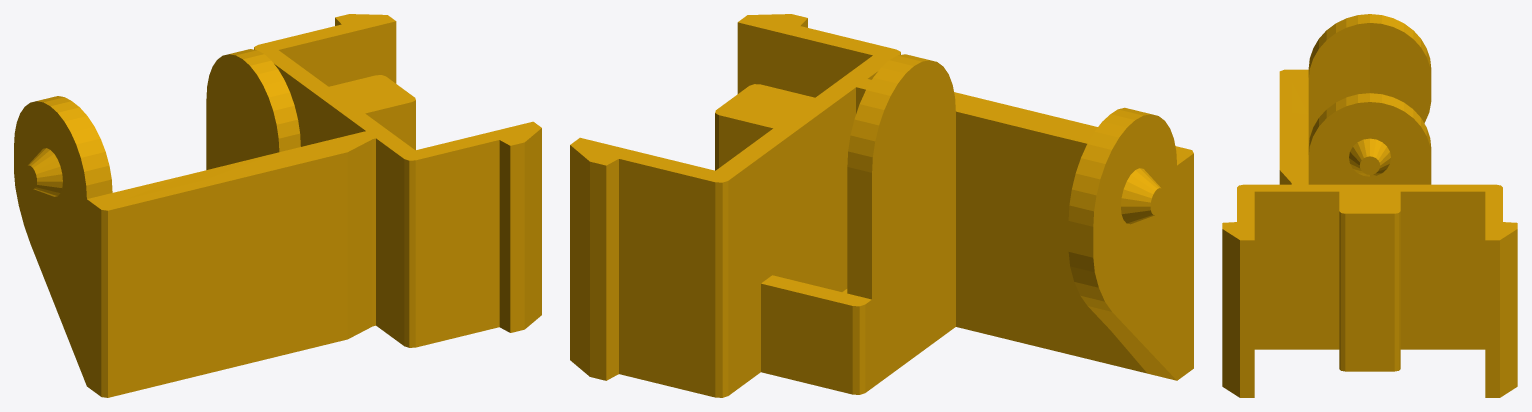
File: cableChain_40MountSide_v2-11.glb
3 views of the same model, side by side, from view 1: azimuth 30°, elevation 25°; view 2: azimuth 150°, elevation 25°; view 3: azimuth 270°, elevation 25° (orthographic). The views are drawn at different scales.
Size of the model in its own units: 41.2 by 23 by 28.86.
